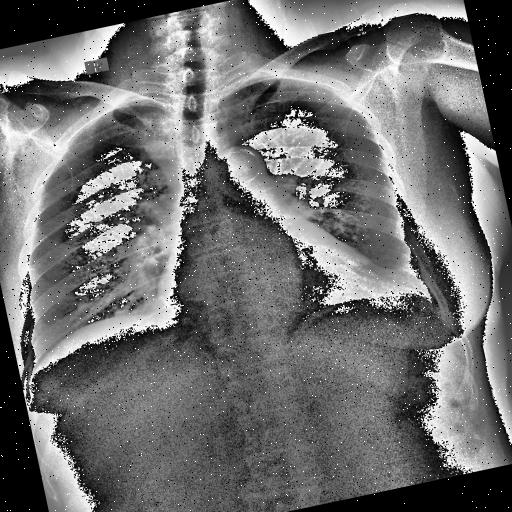0- Aortic enlargement: (203, 140, 269, 194), (207, 140, 271, 192), (208, 140, 270, 192)
3- Cardiomegaly: (148, 226, 390, 344), (150, 238, 382, 348)
9- Other lesion: (130, 102, 187, 192)
